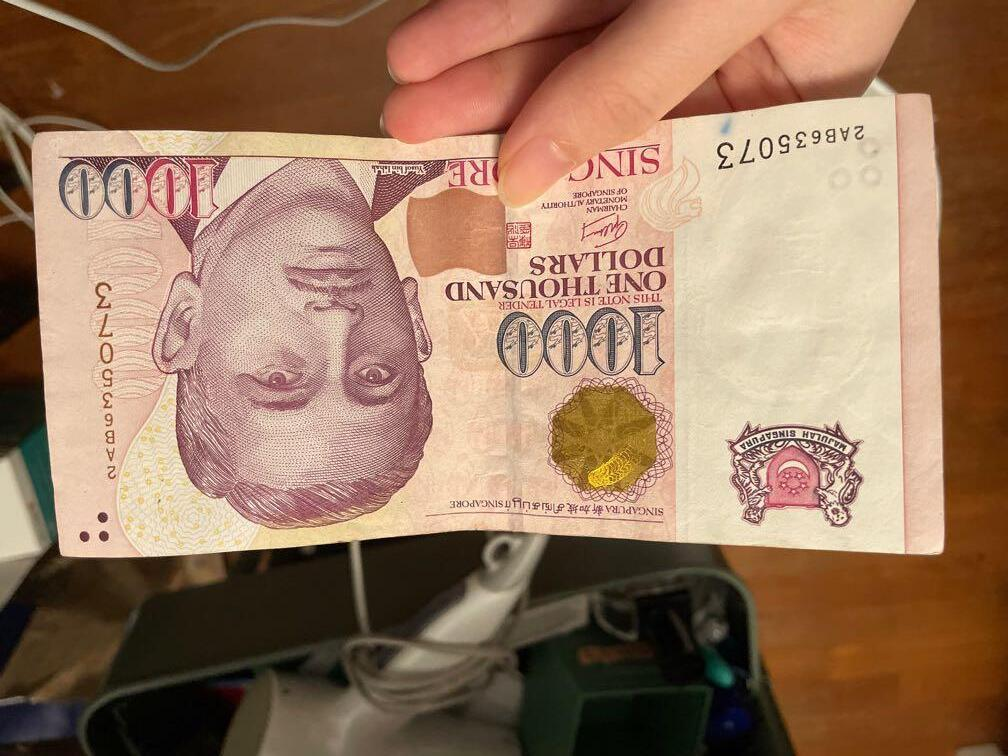1000SingaporeDollar: (59, 129, 931, 540)
